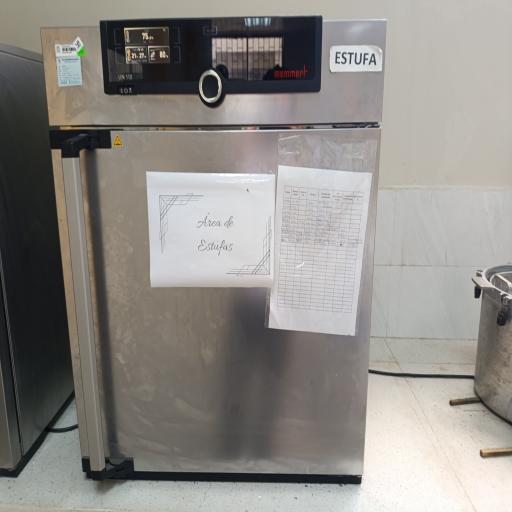Estufa_Memmert: (35, 8, 395, 500)
